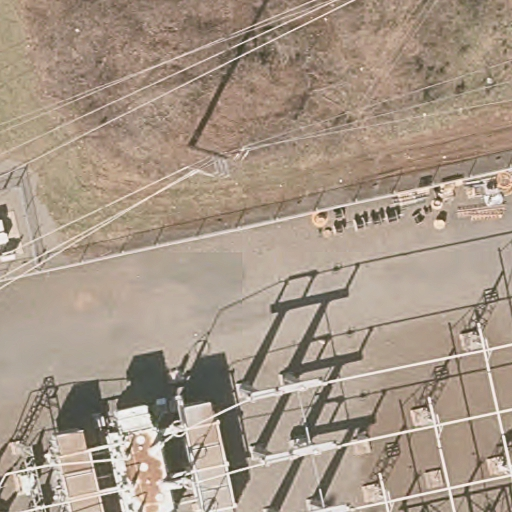TT: (181, 143, 250, 181)
